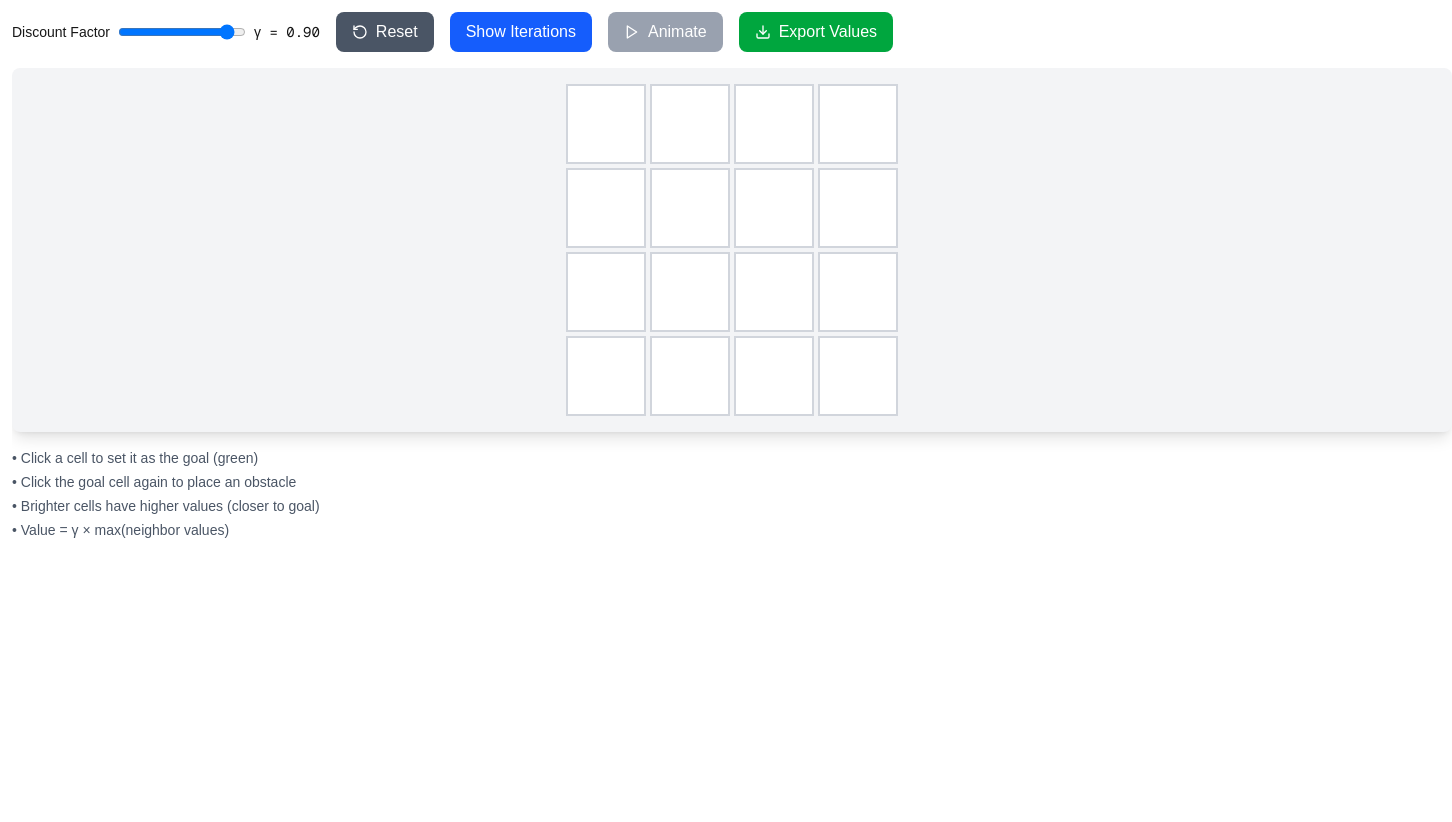
Test case: ValueFunctionVisualizer Component › should show convergence graph
# Set a goal first
Click the element with test id "value-cell-2-2" at (774,292), box [734,252,814,332]
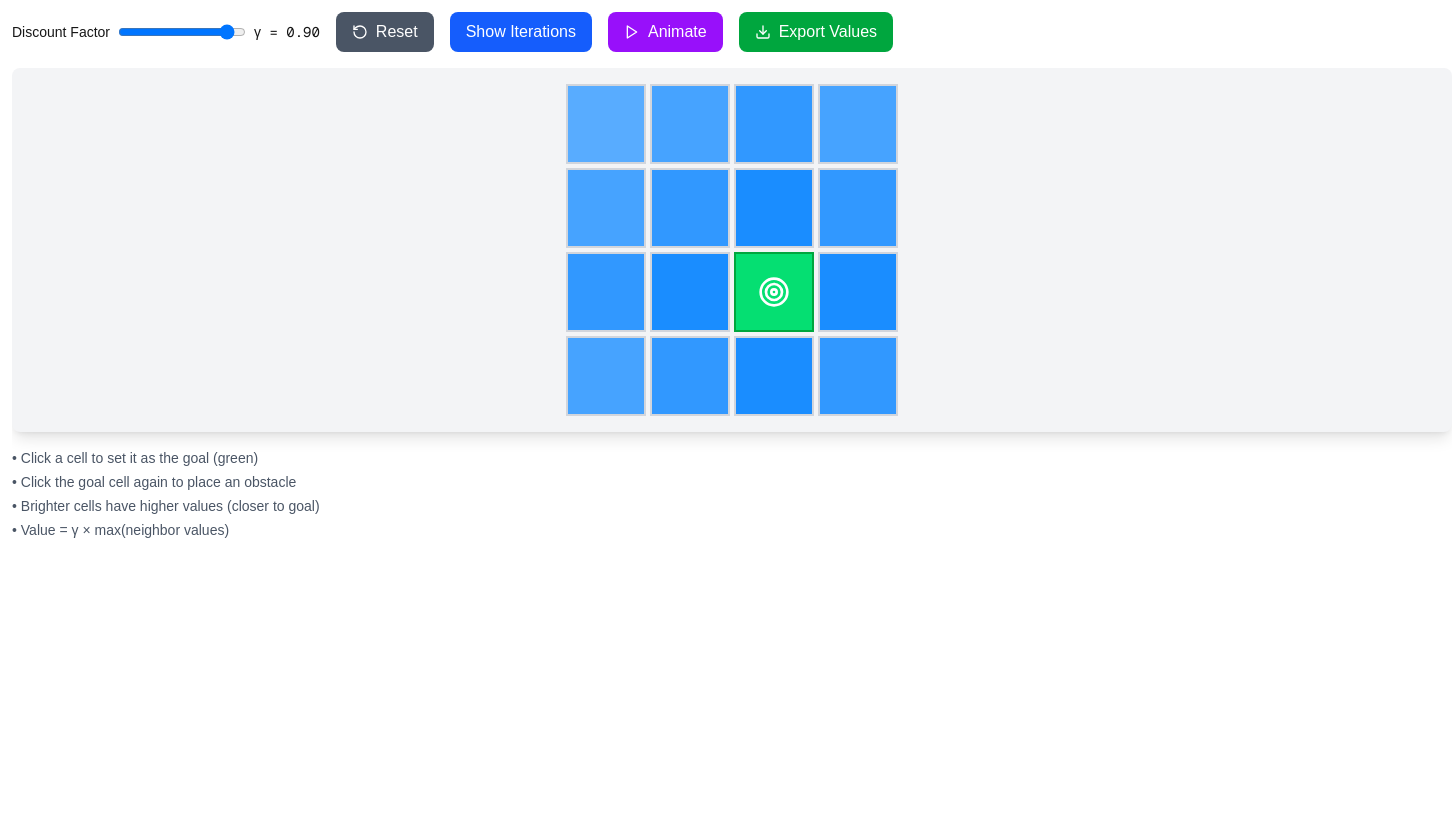
# Start animation
Click the button "Animate" at (665,32), box [608,12,723,52]
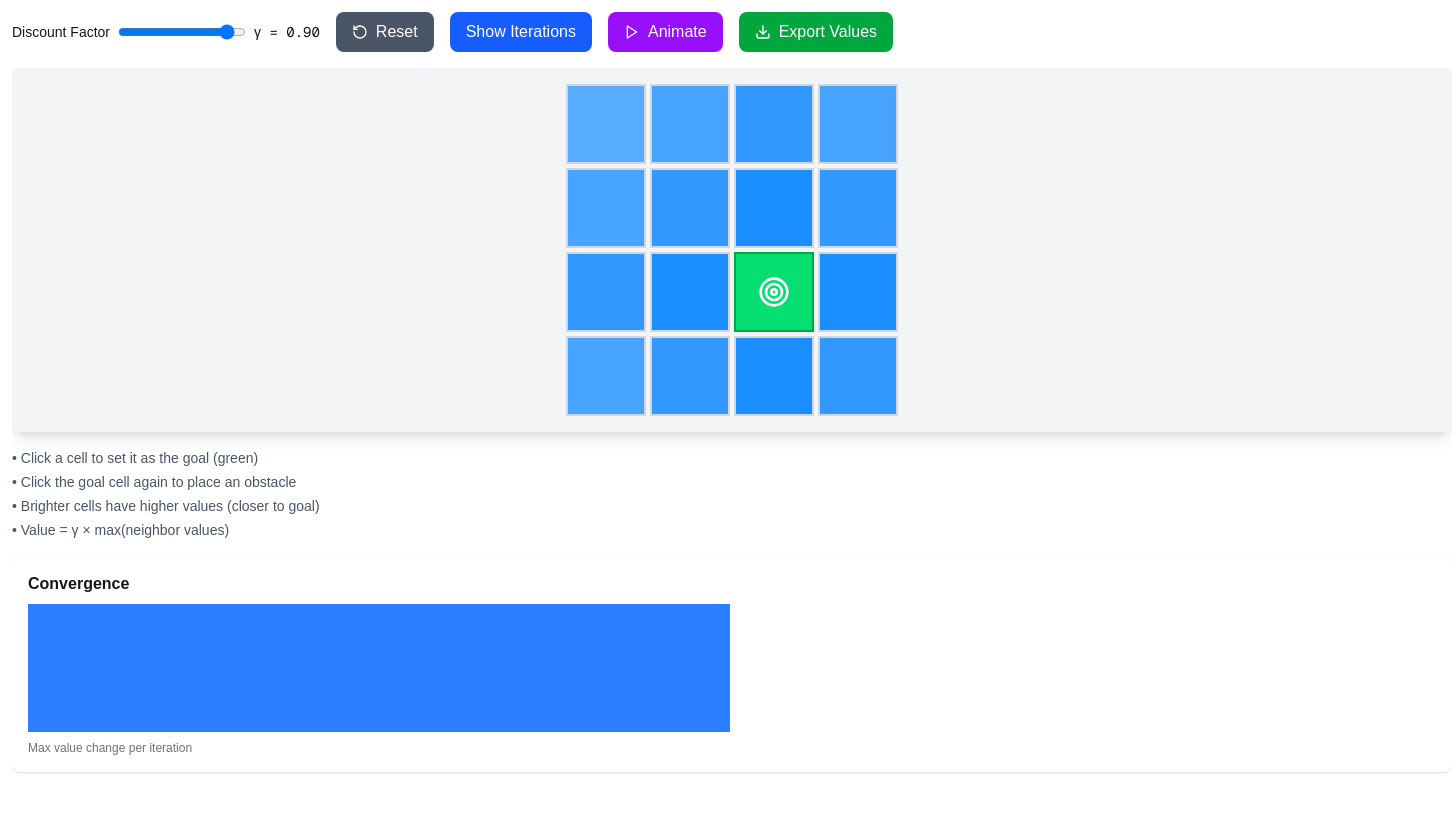
Now the element with test id "convergence-graph" is shown, box [12,556,1451,772]
